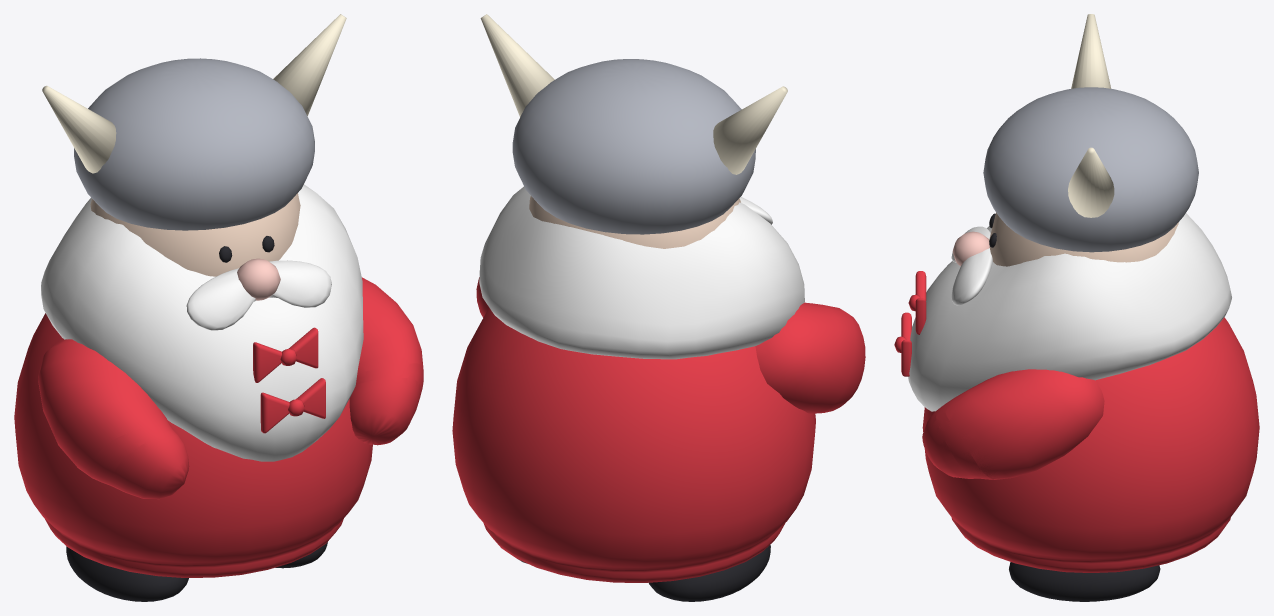
The model's file is viking.glb.
3 renders of one model, left to right at view 1: azimuth 30°, elevation 25°; view 2: azimuth 150°, elevation 25°; view 3: azimuth 270°, elevation 25°, orthographic. The views are drawn at different scales.
Parts seen in each view (by area): view 1: viking_red, viking_white, viking_grey, viking_skin, viking_cream, viking_black, viking_nose; view 2: viking_red, viking_white, viking_grey, viking_cream, viking_black, viking_skin; view 3: viking_red, viking_white, viking_grey, viking_black, viking_cream, viking_skin, viking_nose.
Boxes of the visible parts, x1,y1,x2,y2 form: viking_red: (14,277,423,577); viking_white: (41,184,363,461); viking_grey: (74,58,314,230); viking_skin: (90,193,300,276); viking_cream: (42,14,346,173); viking_black: (66,236,327,601); viking_nose: (237,258,280,300); viking_red: (452,277,865,582); viking_white: (479,186,804,359); viking_grey: (512,59,755,234); viking_cream: (480,14,787,174); viking_black: (518,544,770,601); viking_skin: (529,196,740,248); viking_red: (894,271,1259,572); viking_white: (908,213,1231,411); viking_grey: (983,87,1198,252); viking_black: (989,213,1160,601); viking_cream: (1068,14,1114,217); viking_skin: (989,212,1178,266); viking_nose: (952,231,989,266).
Bounding box in the file's own units: 2.14 × 2.97 × 2.06.
